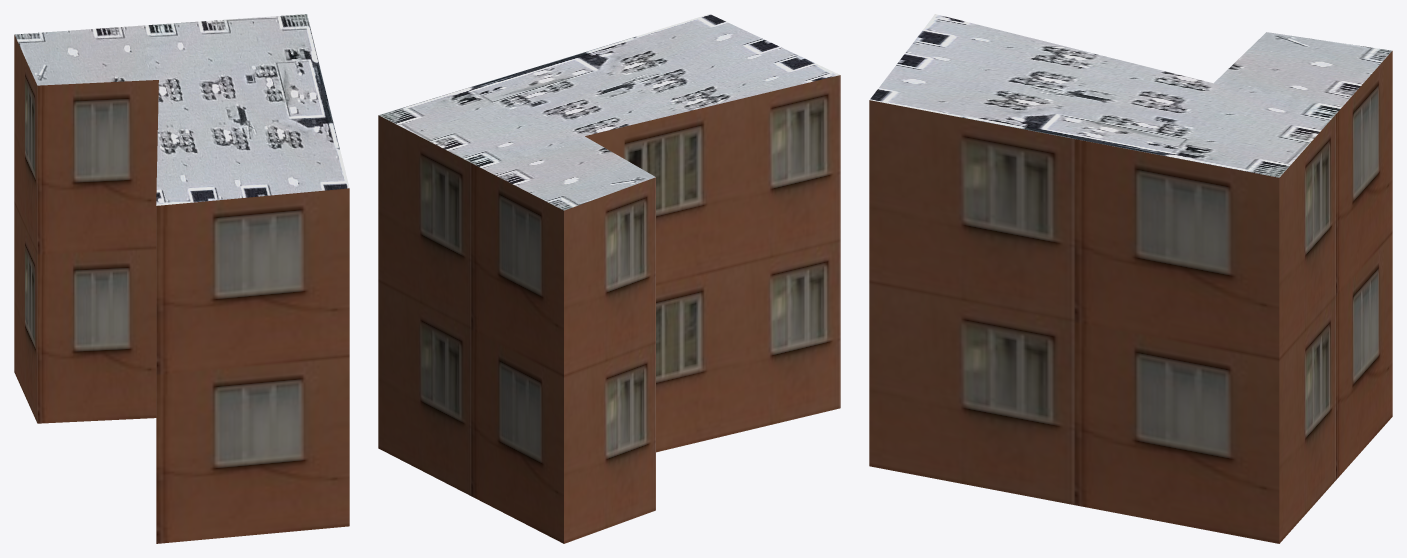
The model's file is ResTex__3046.fbx.
3 views of the same model, side by side, from view 1: azimuth 30°, elevation 25°; view 2: azimuth 150°, elevation 25°; view 3: azimuth 270°, elevation 25° (orthographic). The views are drawn at different scales.
Parts seen in each view (by area): view 1: CityEngineMaterial_20_m, CityEngineMaterial_4_m; view 2: CityEngineMaterial_20_m, CityEngineMaterial_4_m; view 3: CityEngineMaterial_20_m, CityEngineMaterial_4_m.
Part boxes in pixels (box(x1,y1,x2,y2)): CityEngineMaterial_20_m: box(14, 35, 349, 543); CityEngineMaterial_4_m: box(14, 14, 349, 205); CityEngineMaterial_20_m: box(378, 75, 840, 543); CityEngineMaterial_4_m: box(379, 14, 839, 210); CityEngineMaterial_20_m: box(869, 51, 1392, 543); CityEngineMaterial_4_m: box(870, 14, 1391, 177).
Size of the model in its own units: 5.76 by 6 by 7.77.
2 materials, 2 textured.
